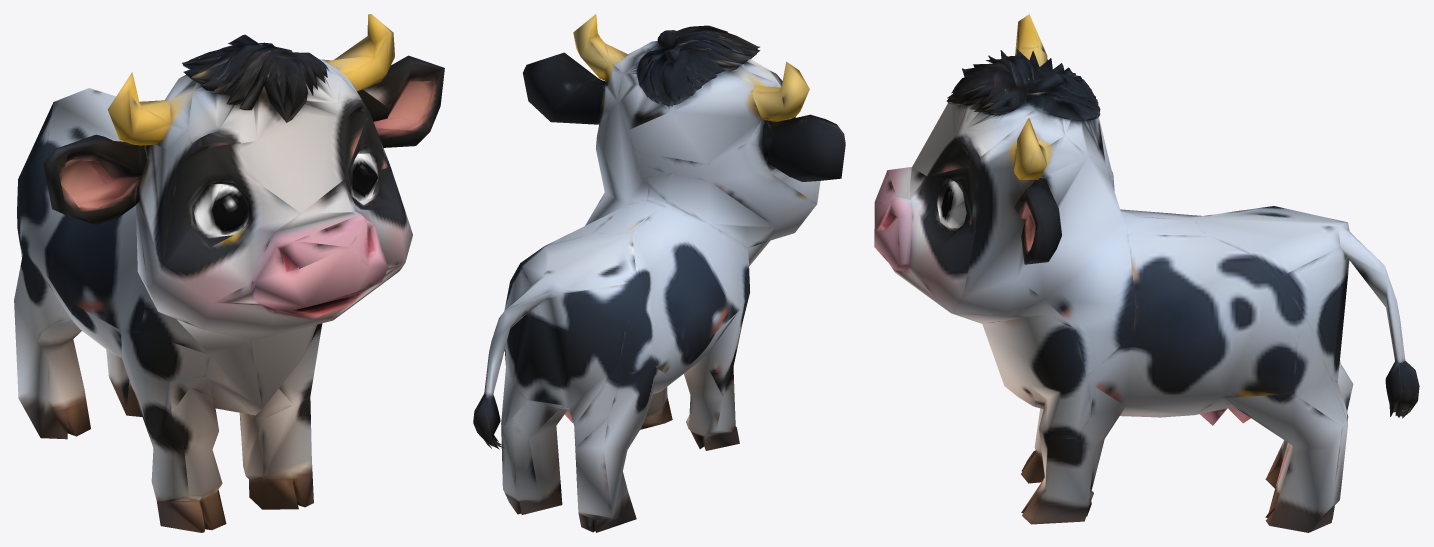
Rendered from lifecycle_cow_calf.glb.
The picture shows the model from 3 angles, left to right: view 1: azimuth 30°, elevation 25°; view 2: azimuth 150°, elevation 25°; view 3: azimuth 270°, elevation 25°; orthographic projection. The views are drawn at different scales.
Visible parts, largest first — view 1: node_0; view 2: node_0; view 3: node_0.
Boxes of the visible parts, x1,y1,x2,y2 form: node_0: (14, 14, 444, 532); node_0: (473, 14, 845, 532); node_0: (874, 14, 1419, 532).
Bounding box in the file's own units: 0.8088 × 0.9402 × 1.06.
Materials: 1 (1 with a texture image).
